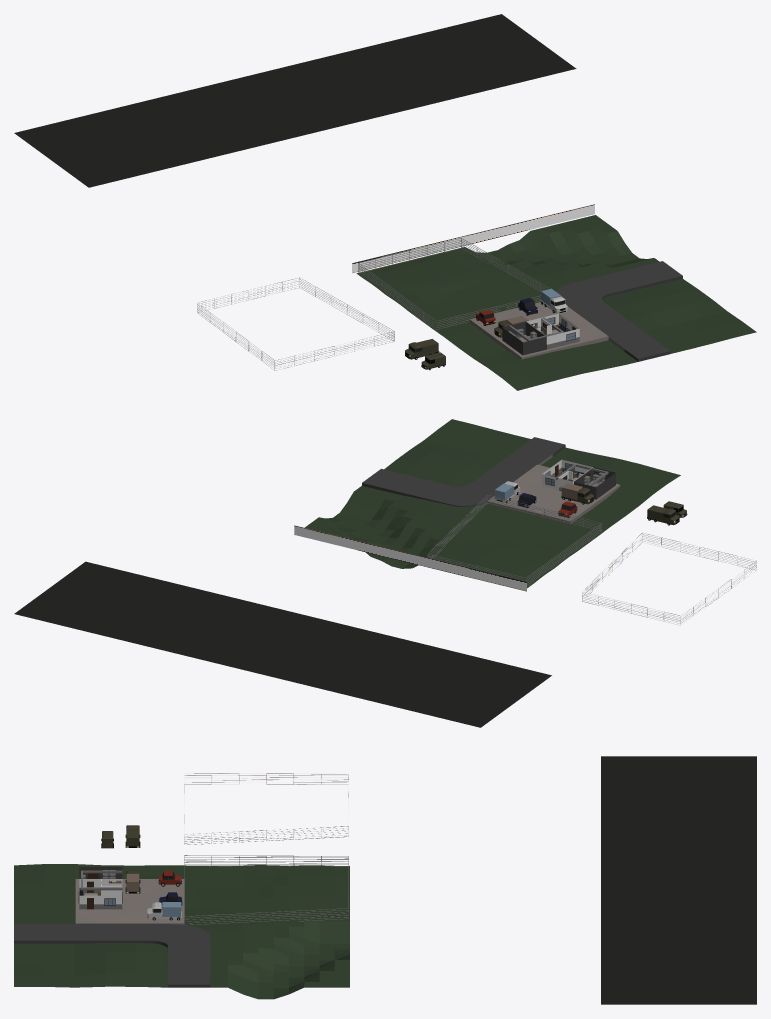
Rendered from schronisko.obj.
3 views of the same model, one above another, from view 1: azimuth 30°, elevation 25°; view 2: azimuth 150°, elevation 25°; view 3: azimuth 270°, elevation 25° (orthographic). The views are drawn at different scales.
Parts seen in each view (by area): view 1: Plane.014, Plane.015, Plane.013, Plane.037, Plane.018, Plane.017, Plane.036, Plane, Plane.010; view 2: Plane.014, Plane.015, Plane.013, Plane.037, Plane.018, Plane.036, Plane.017, Plane, Plane.010; view 3: Plane.014, Plane.015, Plane.013, Plane.036, Plane.037, Plane.017, Plane, Cylinder.011.
Part boxes in pixels (left/top/right/bottom): Plane.014: left=14, top=14, right=576, bottom=187; Plane.015: left=356, top=215, right=756, bottom=390; Plane.013: left=557, top=261, right=682, bottom=361; Plane.037: left=197, top=277, right=394, bottom=370; Plane.018: left=352, top=204, right=594, bottom=273; Plane.017: left=358, top=238, right=550, bottom=330; Plane.036: left=469, top=302, right=608, bottom=359; Plane: left=516, top=313, right=579, bottom=349; Plane.010: left=502, top=321, right=546, bottom=355; Plane.014: left=14, top=561, right=551, bottom=727; Plane.015: left=305, top=419, right=680, bottom=588; Plane.013: left=362, top=437, right=565, bottom=506; Plane.037: left=582, top=532, right=756, bottom=625; Plane.018: left=294, top=525, right=526, bottom=591; Plane.036: left=488, top=464, right=620, bottom=524; Plane.017: left=427, top=495, right=602, bottom=586; Plane: left=542, top=459, right=601, bottom=491; Plane.010: left=574, top=467, right=615, bottom=499; Plane.014: left=601, top=756, right=756, bottom=1004; Plane.015: left=14, top=864, right=349, bottom=999; Plane.013: left=14, top=924, right=210, bottom=987; Plane.036: left=75, top=879, right=184, bottom=924; Plane.037: left=184, top=773, right=348, bottom=844; Plane.017: left=184, top=855, right=348, bottom=925; Plane: left=79, top=879, right=122, bottom=909; Cylinder.011: left=147, top=902, right=181, bottom=920.
Size of the model in its own units: 105 by 8.92 by 129.
